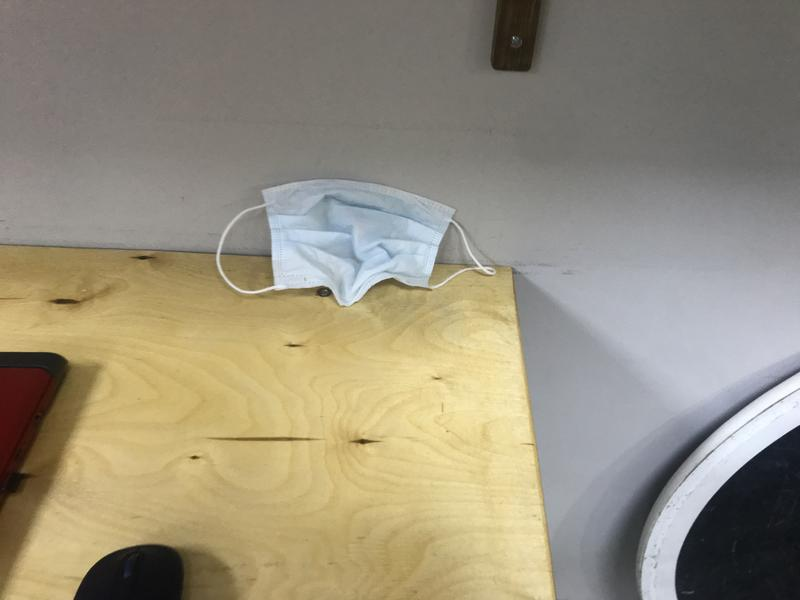medical_mask: (214, 180, 496, 307)
